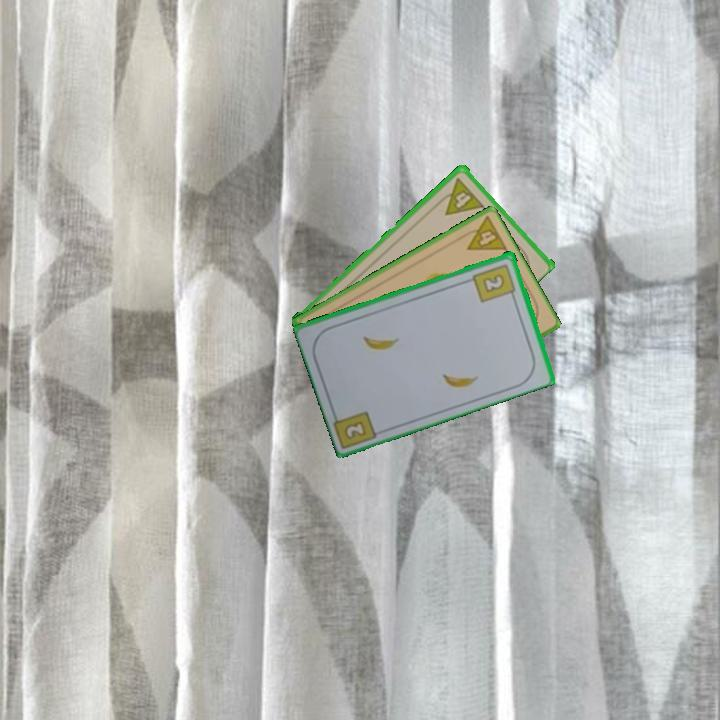2b: (470, 260, 519, 305), (341, 417, 369, 442)
4p: (433, 174, 486, 218), (455, 213, 510, 253)
